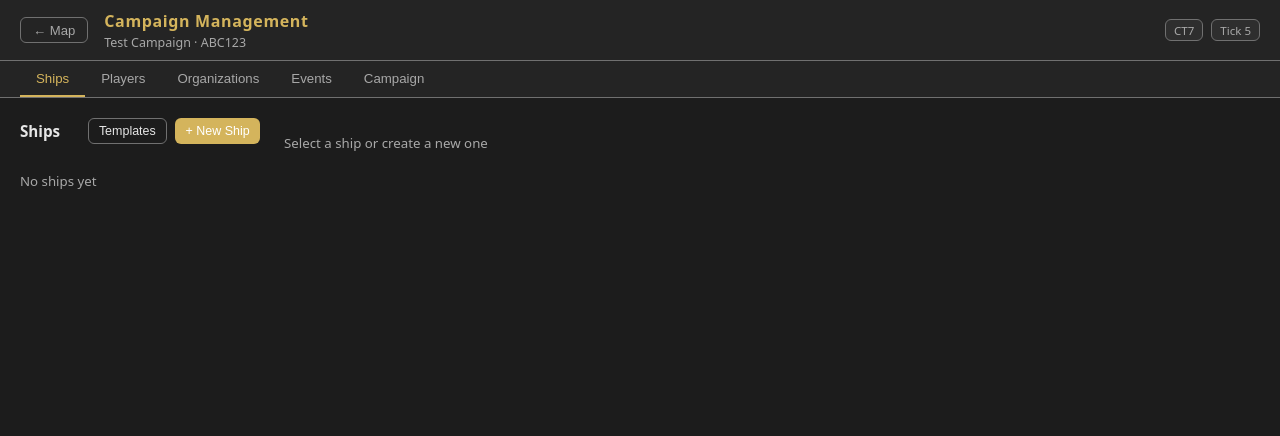
Scenario: RefereeView — Events grid › flips a row to Expired in place, rather than removing it, when expired
Click the tab with class "rtab" showing "Events".
click(312, 79)  # box [275, 61, 348, 97]
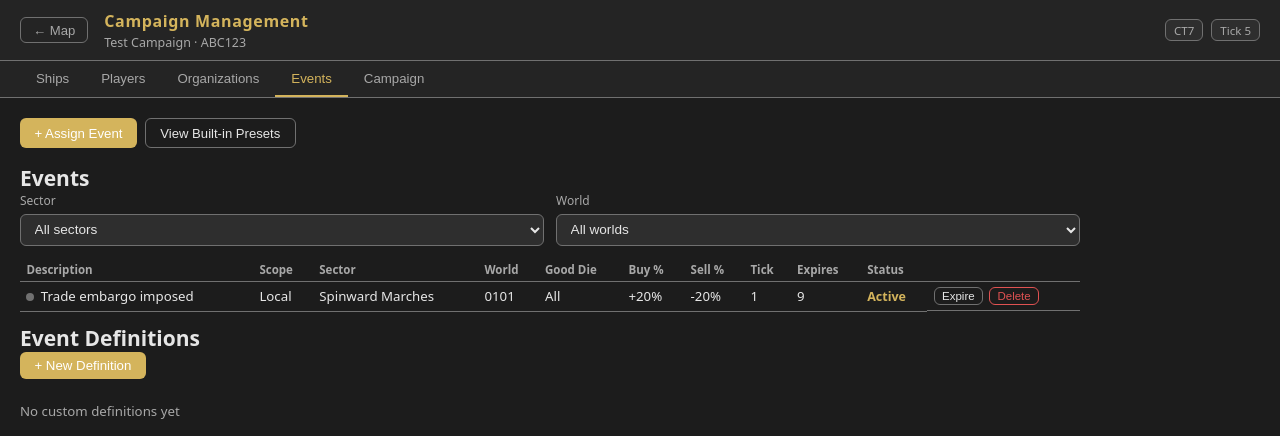
Click the button "Expire".
click(958, 296)  # box [934, 286, 983, 305]
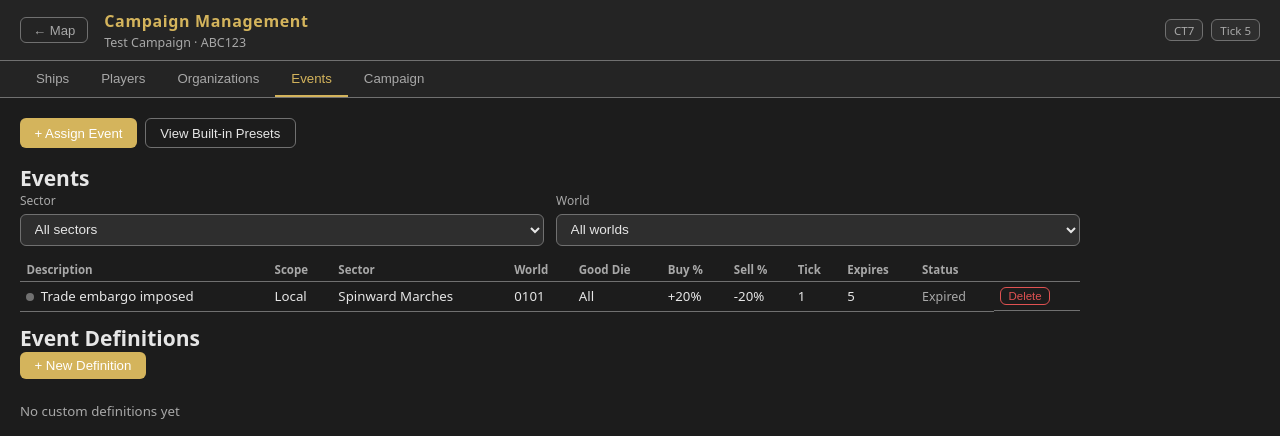
Check: the text "Expired" is shown, box [922, 288, 966, 305]
